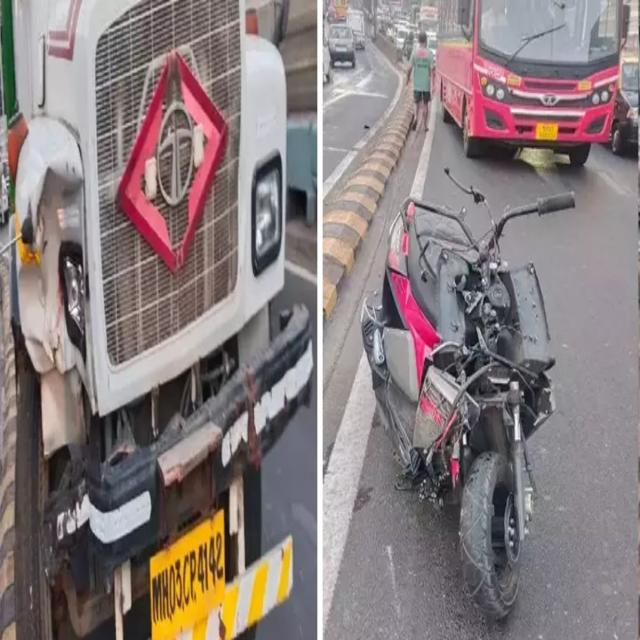accident: (361, 173, 575, 620)
bus: (435, 0, 630, 167)
car: (610, 58, 639, 153), (329, 24, 355, 66)
truck: (0, 0, 315, 640)
